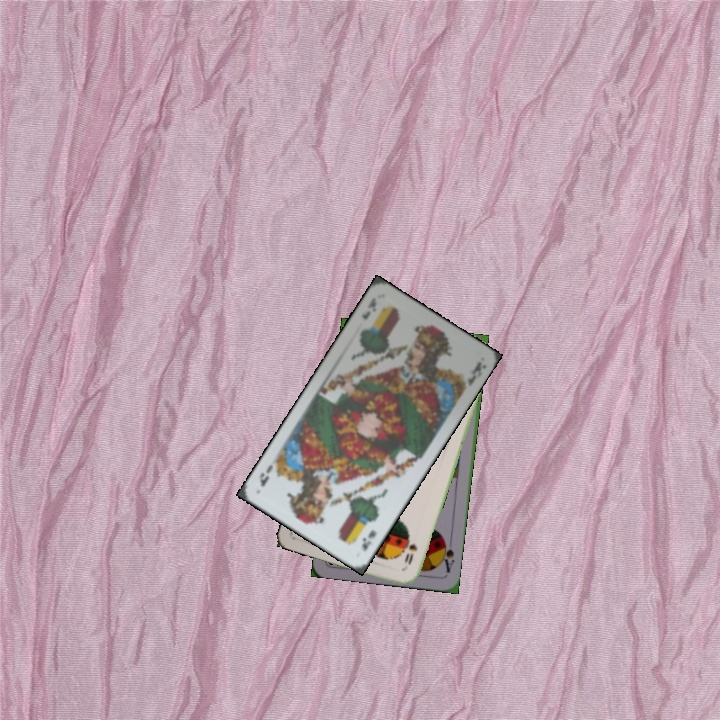EK: (357, 294, 379, 323), (358, 525, 379, 554)
SA: (437, 535, 457, 575)
SO: (400, 539, 420, 568)
